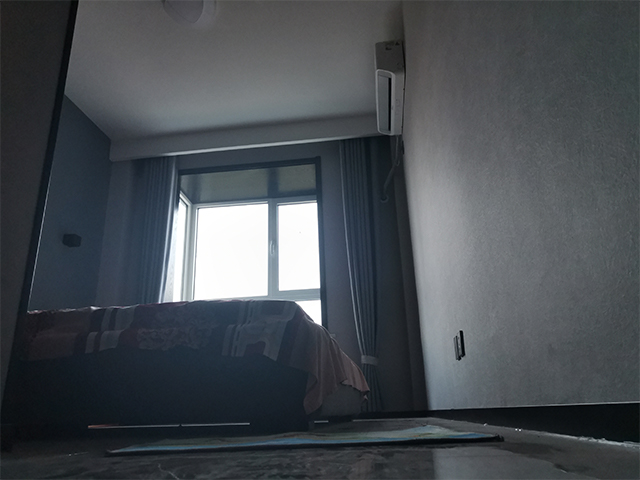bed: (16, 297, 373, 433)
carpet: (102, 422, 506, 458)
curtain: (337, 136, 387, 417), (130, 158, 173, 304)
